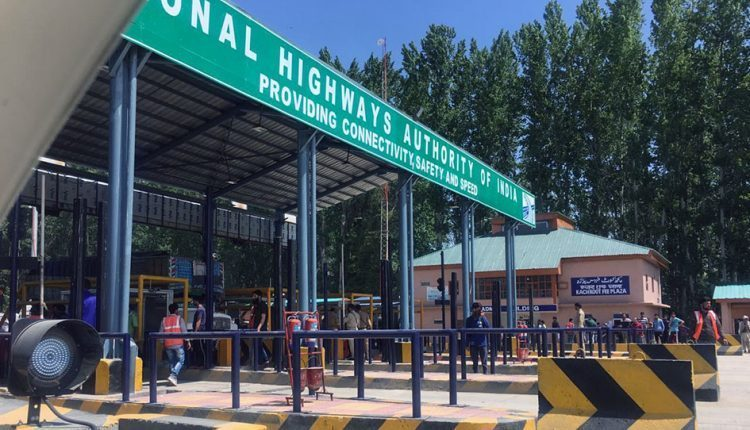toll plaza: (157, 1, 537, 383)
